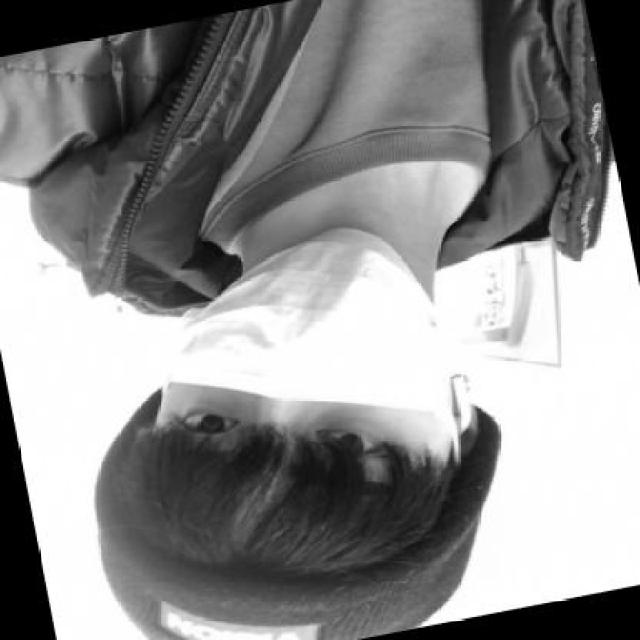earphone: (445, 369, 487, 436)
